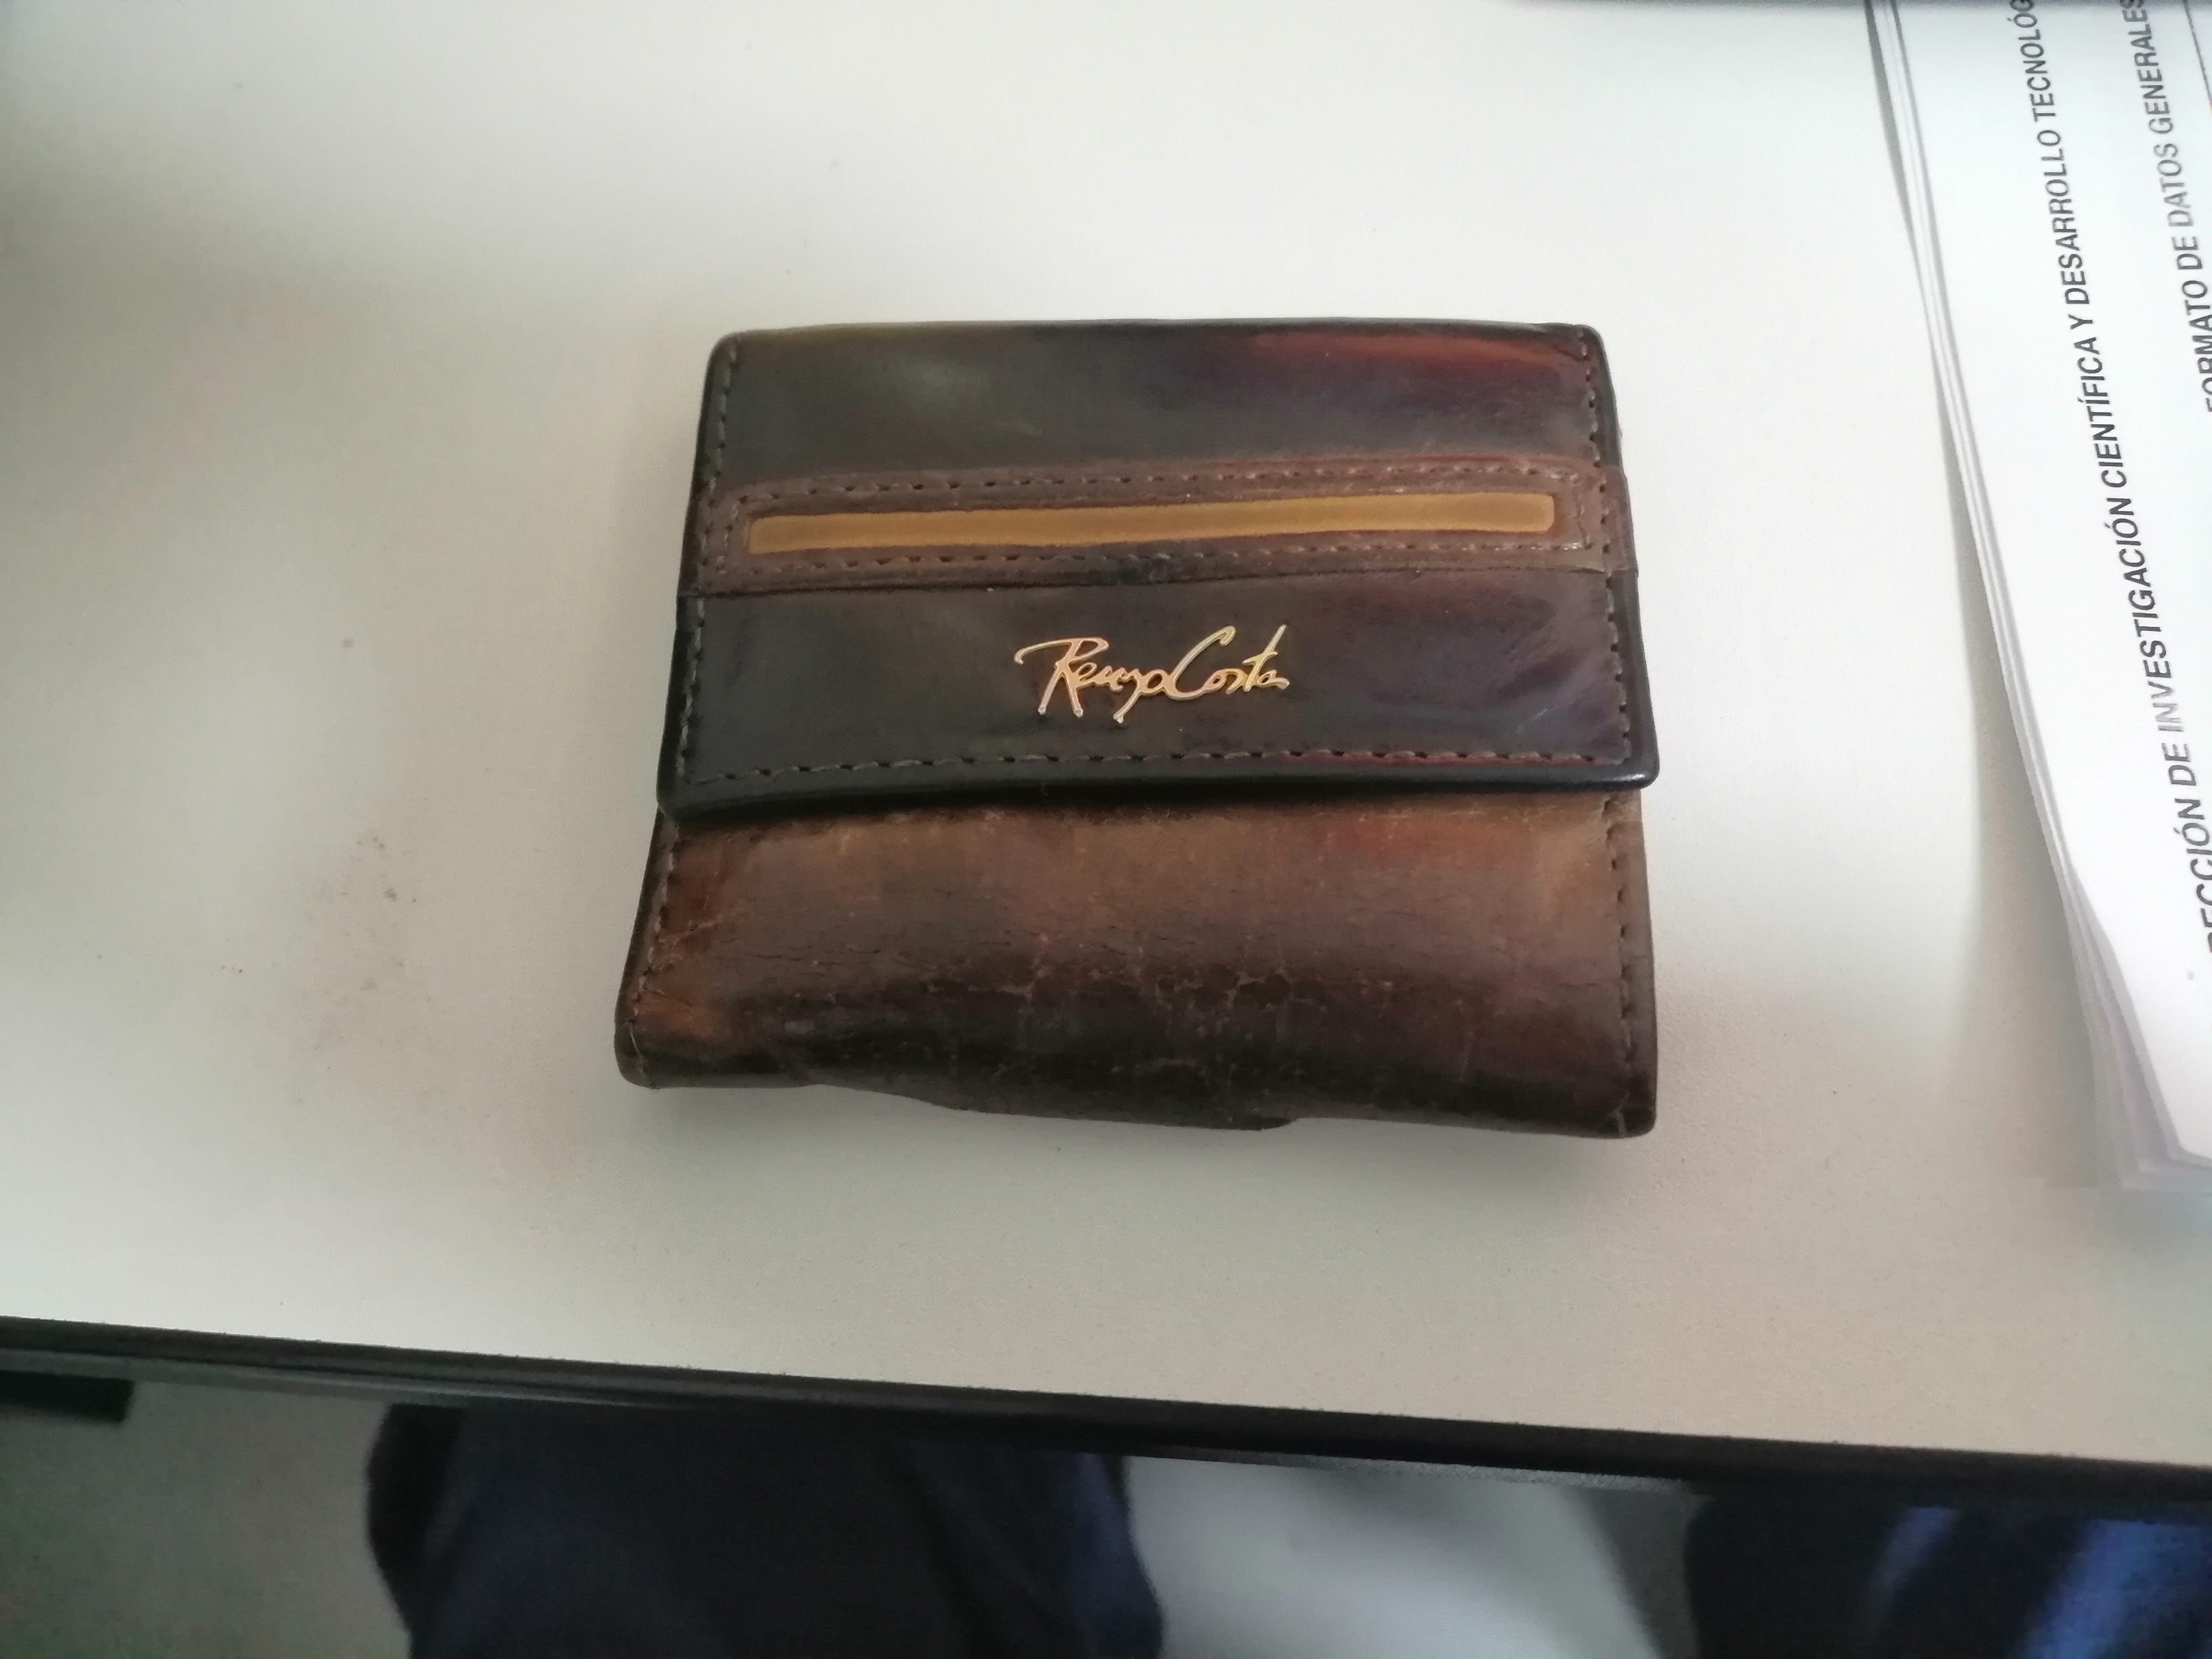monedero: (582, 305, 1714, 1180)
